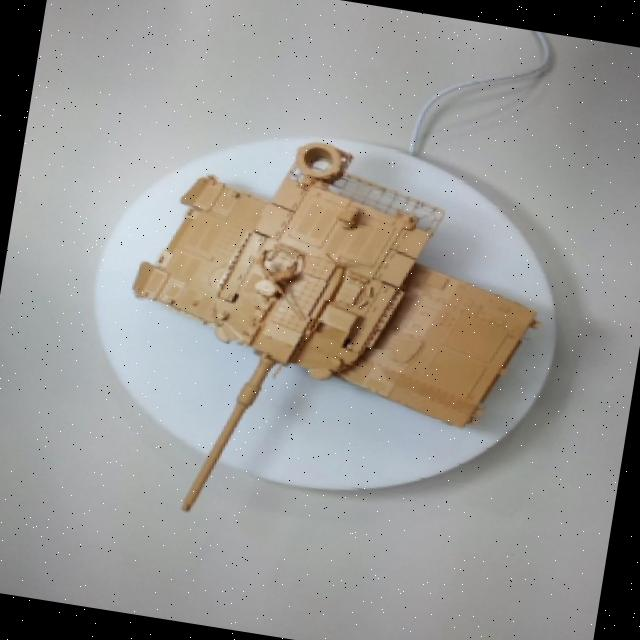korea tank: (64, 114, 556, 598)
